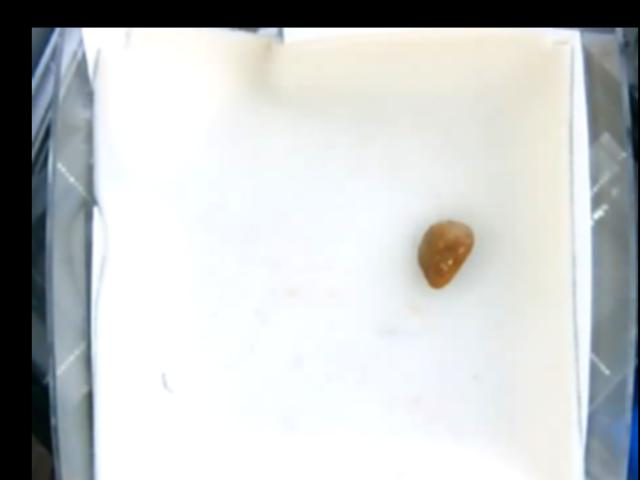Pebble: (420, 219, 483, 290)
